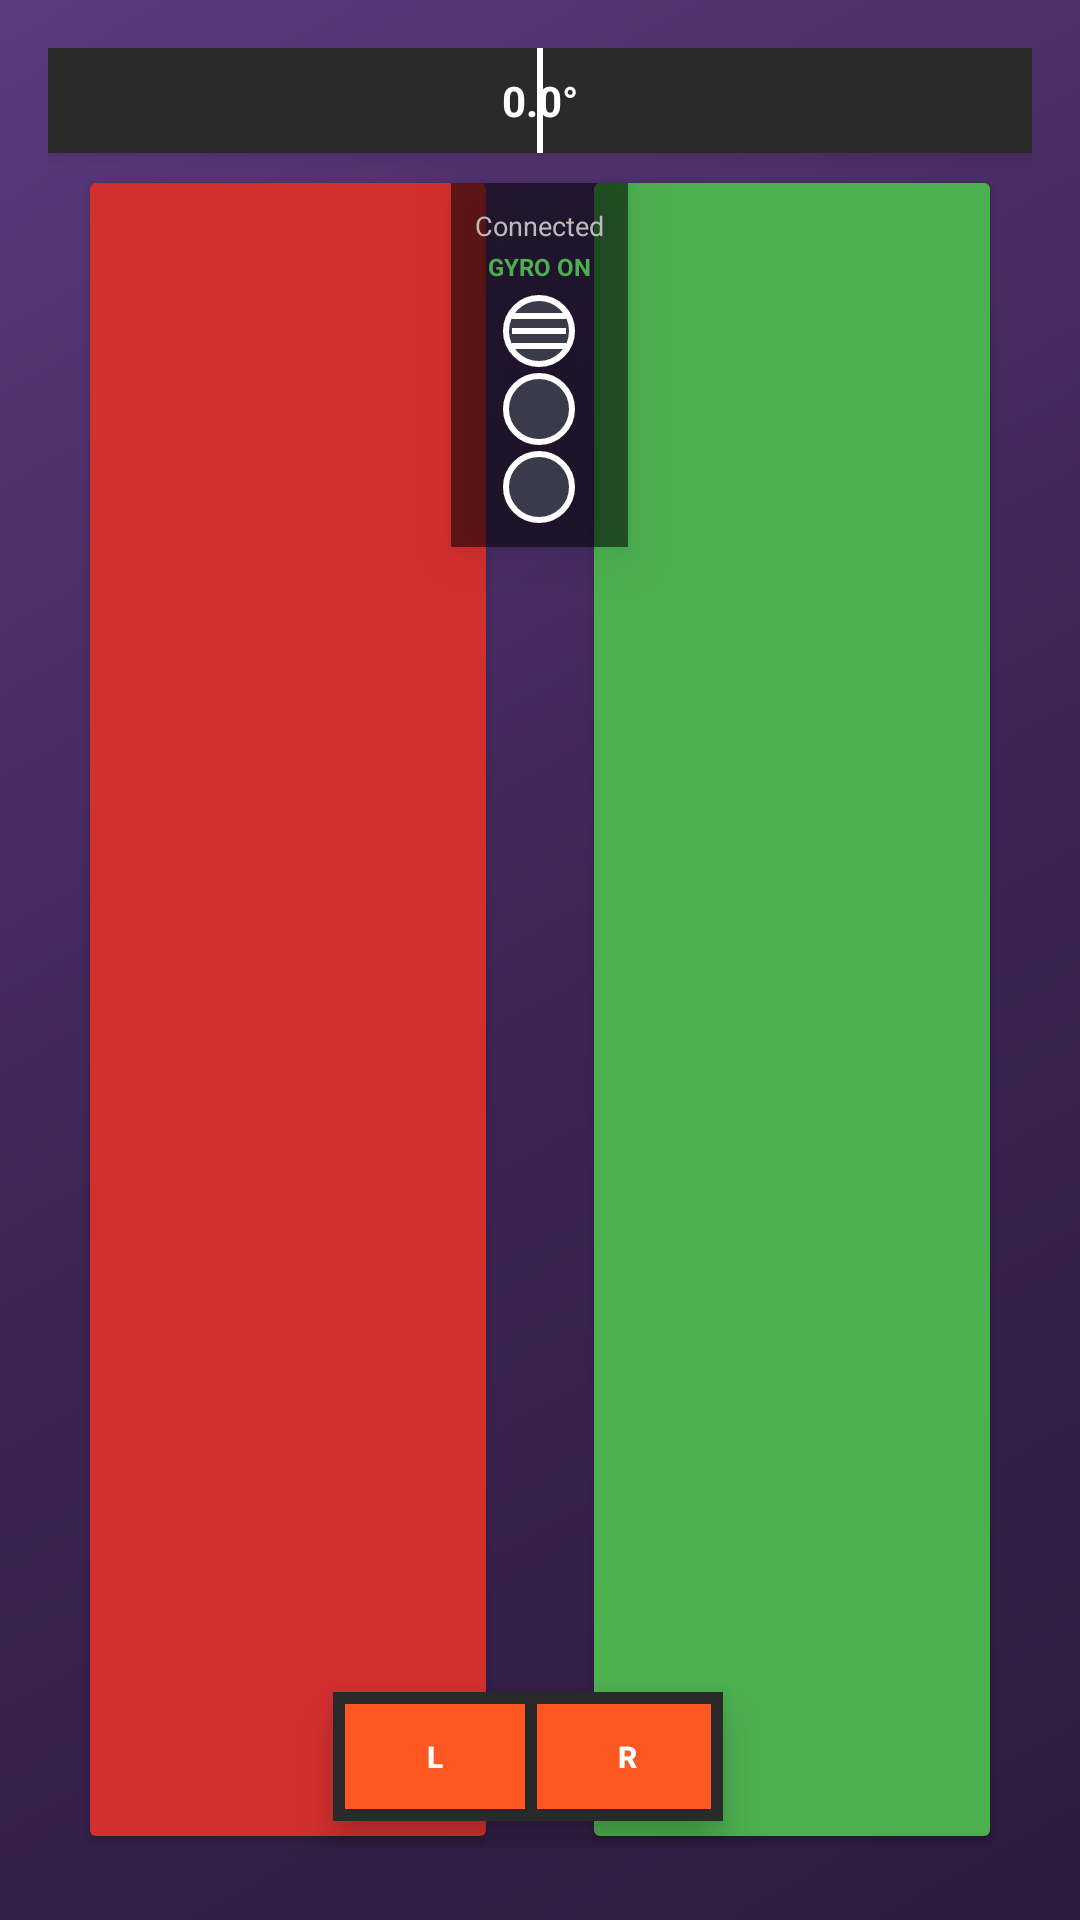

Screen size 1080w x 1920h. Icon name, then its box in pixels as (x1, y1, x2, y2):
menu: (503, 295, 575, 367)
